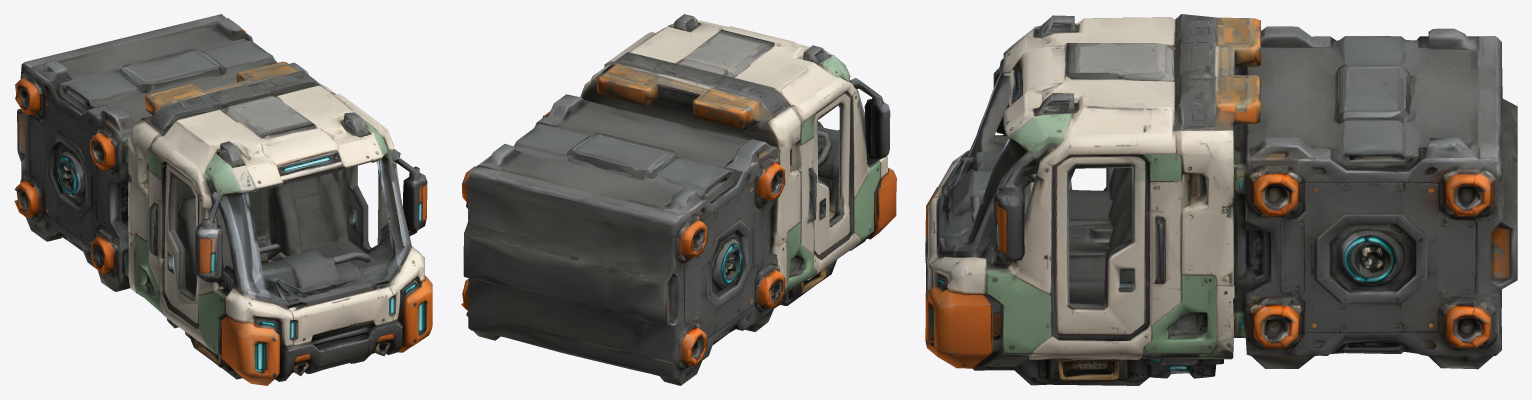
The model's file is futuristic vehicle 3d model (2).glb.
The picture shows the model from 3 angles, left to right: view 1: azimuth 30°, elevation 25°; view 2: azimuth 150°, elevation 25°; view 3: azimuth 270°, elevation 25°; orthographic projection. The views are drawn at different scales.
Parts seen in each view (by area): view 1: tripo_node_17643b14-0870-49a8-a9ae-e0af4c9aaef6; view 2: tripo_node_17643b14-0870-49a8-a9ae-e0af4c9aaef6; view 3: tripo_node_17643b14-0870-49a8-a9ae-e0af4c9aaef6.
Part boxes in pixels (<box>): tripo_node_17643b14-0870-49a8-a9ae-e0af4c9aaef6: <box>14,14,432,385</box>; tripo_node_17643b14-0870-49a8-a9ae-e0af4c9aaef6: <box>461,14,896,385</box>; tripo_node_17643b14-0870-49a8-a9ae-e0af4c9aaef6: <box>925,14,1517,385</box>.
Bounding box in the file's own units: 0.5739 × 0.5402 × 1.
Materials: 1 (1 with a texture image).
